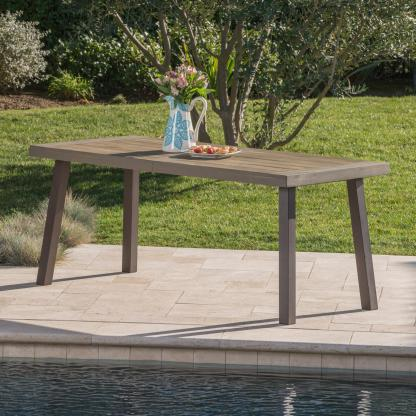table: (26, 128, 394, 328)
